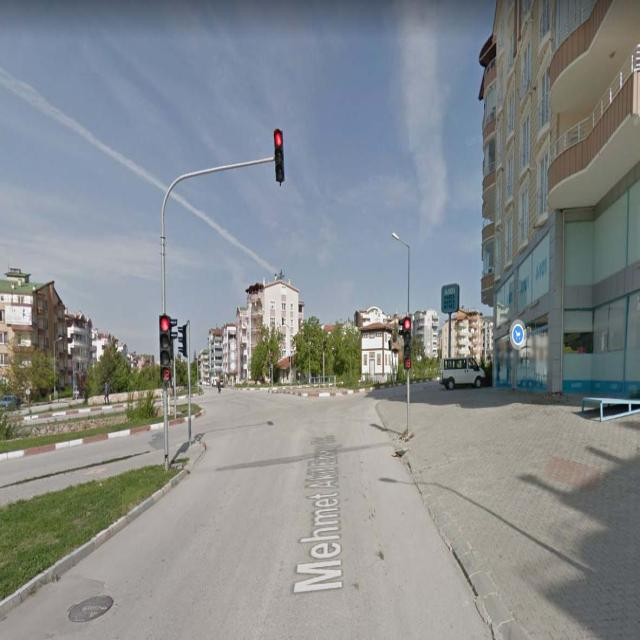kirmizi: (159, 315, 171, 368), (273, 132, 285, 182), (403, 318, 411, 352)
